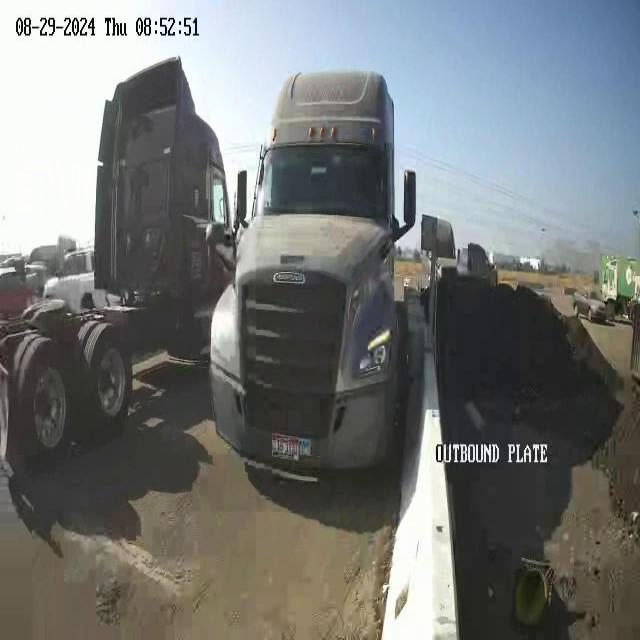TRUCK_IN: (0, 51, 212, 467)
TRUCK_OUT: (202, 79, 410, 492)
